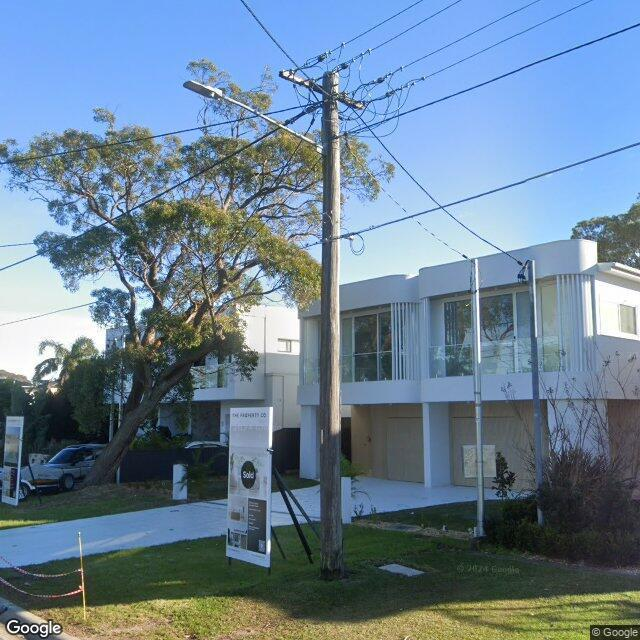crossarm: (278, 68, 364, 112)
steel-pole: (529, 259, 543, 526), (473, 257, 483, 537)
streetlight: (183, 80, 324, 156)
timber-pole: (321, 70, 343, 582)
